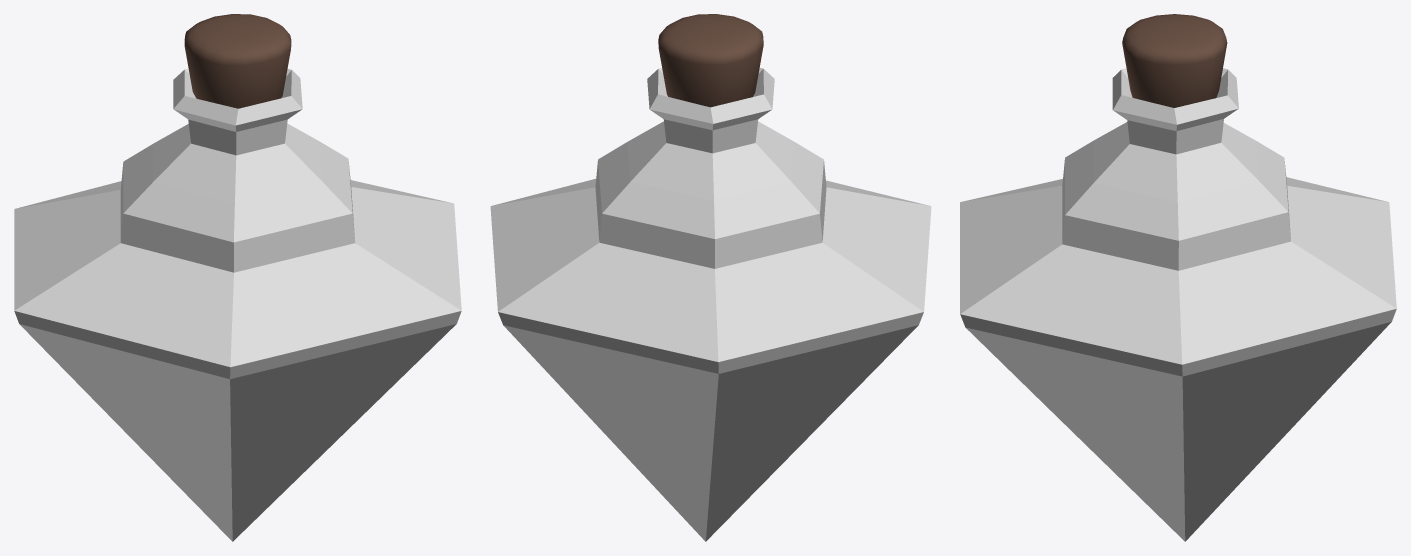
Rendered from potion11_filled.glb.
3 views of the same model, side by side, from view 1: azimuth 30°, elevation 25°; view 2: azimuth 150°, elevation 25°; view 3: azimuth 270°, elevation 25° (orthographic).
Parts seen in each view (by area): view 1: Potion11_Filled; view 2: Potion11_Filled; view 3: Potion11_Filled.
Part boxes in pixels (left/top/right/bottom): Potion11_Filled: left=14, top=14, right=461, bottom=541; Potion11_Filled: left=490, top=14, right=931, bottom=541; Potion11_Filled: left=960, top=14, right=1396, bottom=541.
Size of the model in its own units: 0.8358 by 0.9373 by 0.7238.
